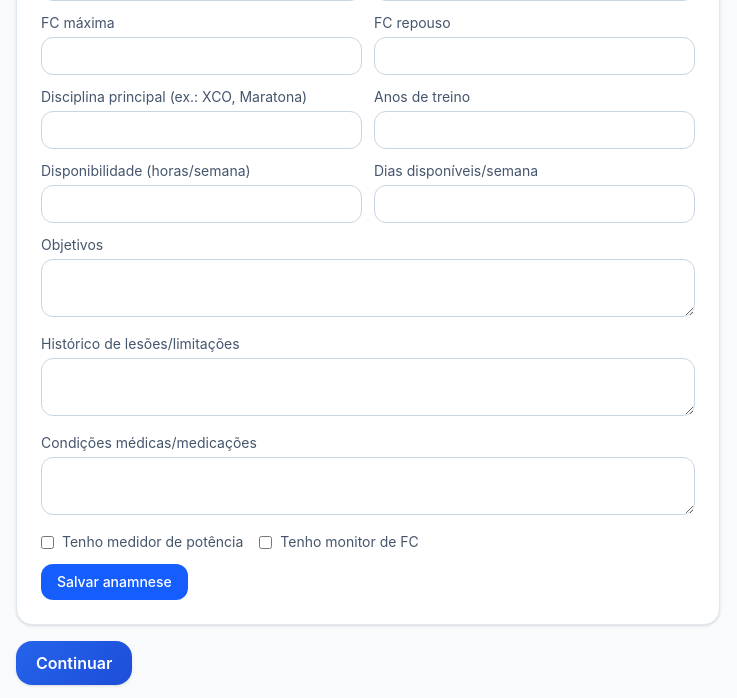
Test: OnboardingWizard › passo 1 (anamnese) não avança com perfil incompleto
(page scrolled)
Click the button "Continuar": (74, 663) [16,641,132,685]
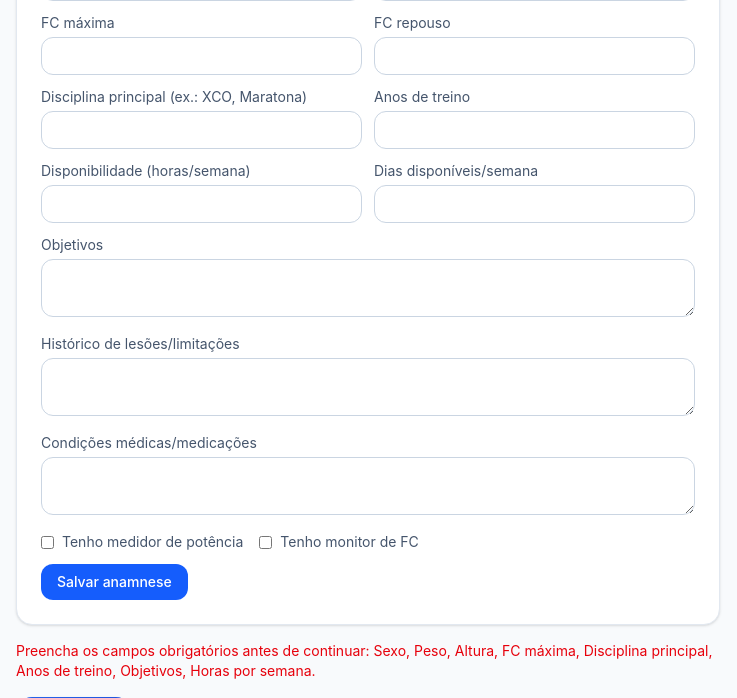
expect the text "Preencha os campos obrigatórios" is shown: met, box [16,642,712,679]
